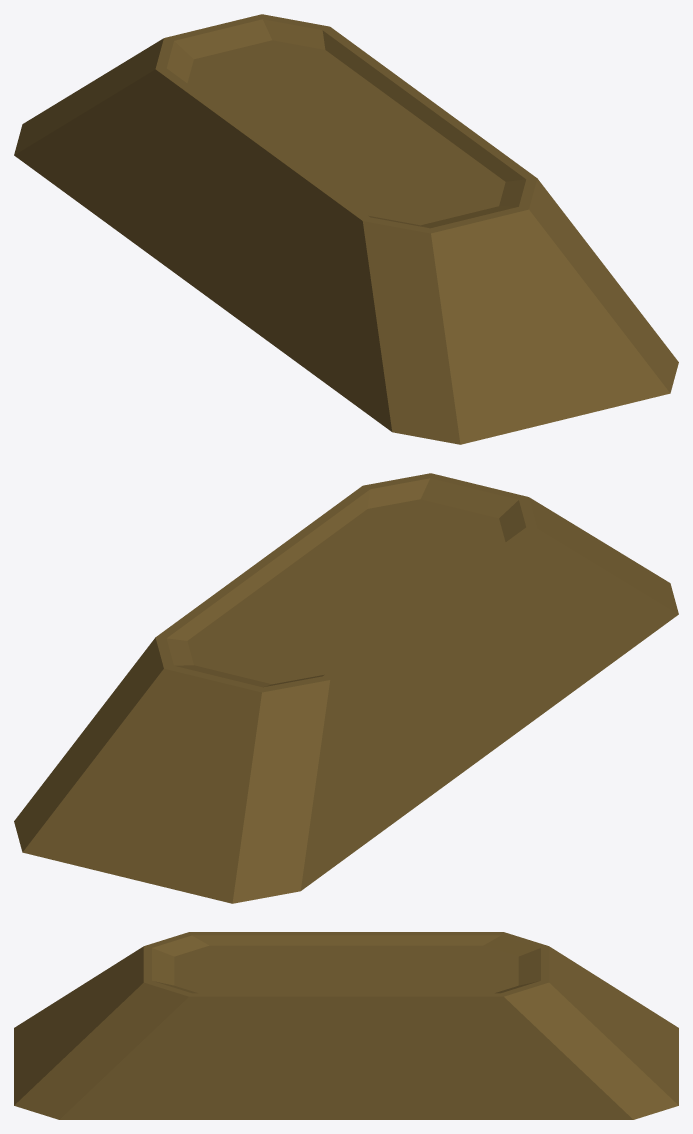
Rendered from Lingote de cobre.fbx.
The picture shows the model from 3 angles, top to bottom: view 1: azimuth 30°, elevation 25°; view 2: azimuth 150°, elevation 25°; view 3: azimuth 270°, elevation 25°; orthographic projection. The views are drawn at different scales.
Parts seen in each view (by area): view 1: Cube; view 2: Cube; view 3: Cube.
Part boxes in pixels (x1,y1,x2,y2): Cube: [14, 14, 678, 444]; Cube: [14, 473, 678, 903]; Cube: [14, 932, 678, 1119].
Bounding box in the file's own units: 34.91 × 15.71 × 92.37.
